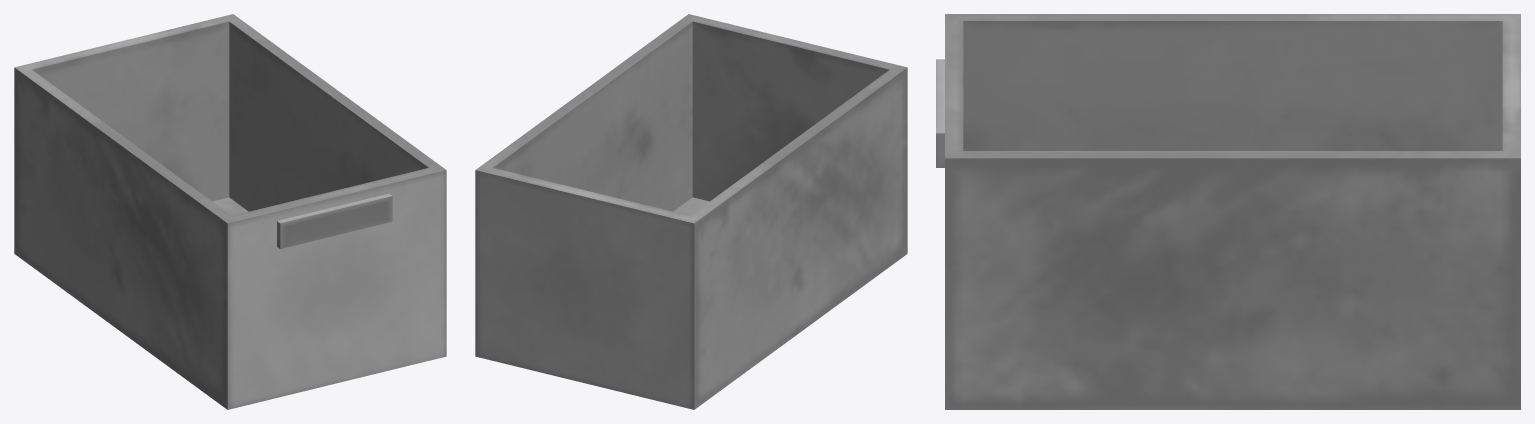
The model's file is SM_Cabinet__5.fbx.
The picture shows the model from 3 angles, left to right: view 1: azimuth 30°, elevation 25°; view 2: azimuth 150°, elevation 25°; view 3: azimuth 270°, elevation 25°; orthographic projection. The views are drawn at different scales.
Parts seen in each view (by area): view 1: Kitchen; view 2: Kitchen; view 3: Kitchen.
Part boxes in pixels (box(x1,y1,x2,y2)): Kitchen: box(14, 14, 446, 409); Kitchen: box(475, 14, 907, 409); Kitchen: box(936, 14, 1520, 409).
Bounding box in the file's own units: 1.05 × 0.8555 × 1.8.
1 material, 1 textured.
